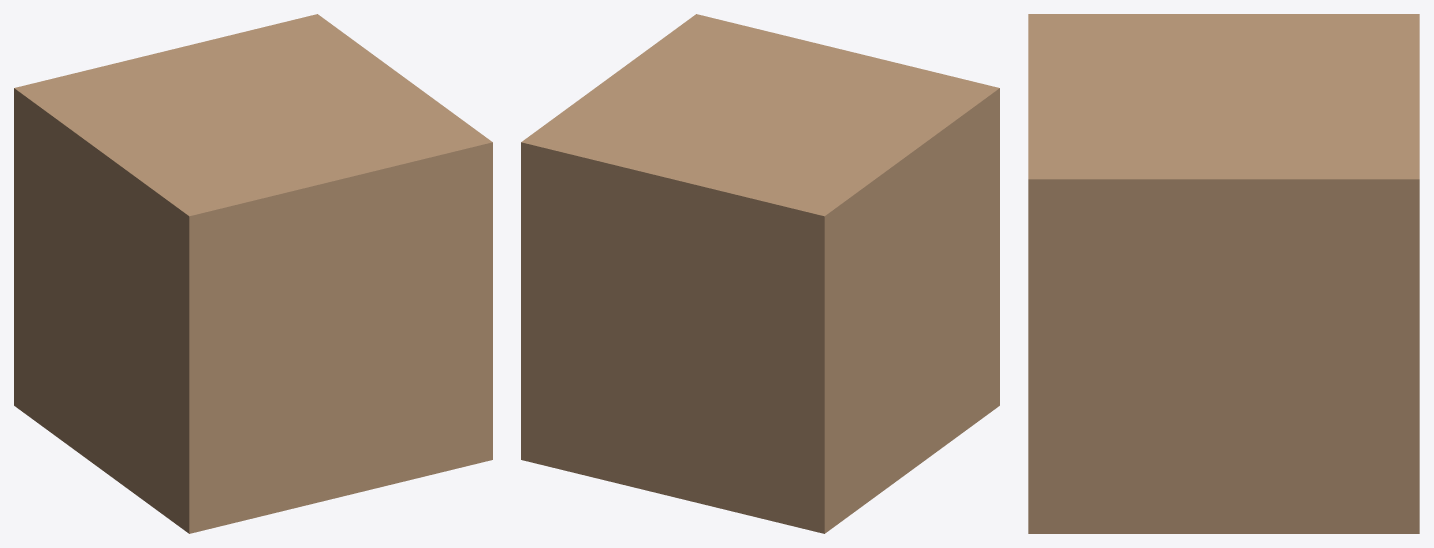
The model's file is _test-villa-block.glb.
3 views of the same model, side by side, from view 1: azimuth 30°, elevation 25°; view 2: azimuth 150°, elevation 25°; view 3: azimuth 270°, elevation 25° (orthographic). The views are drawn at different scales.
Parts seen in each view (by area): view 1: block; view 2: block; view 3: block.
Part boxes in pixels (left/top/right/bottom): block: left=14, top=14, right=492, bottom=533; block: left=521, top=14, right=999, bottom=533; block: left=1028, top=14, right=1419, bottom=533.
Bounding box in the file's own units: 2 × 2 × 2.
